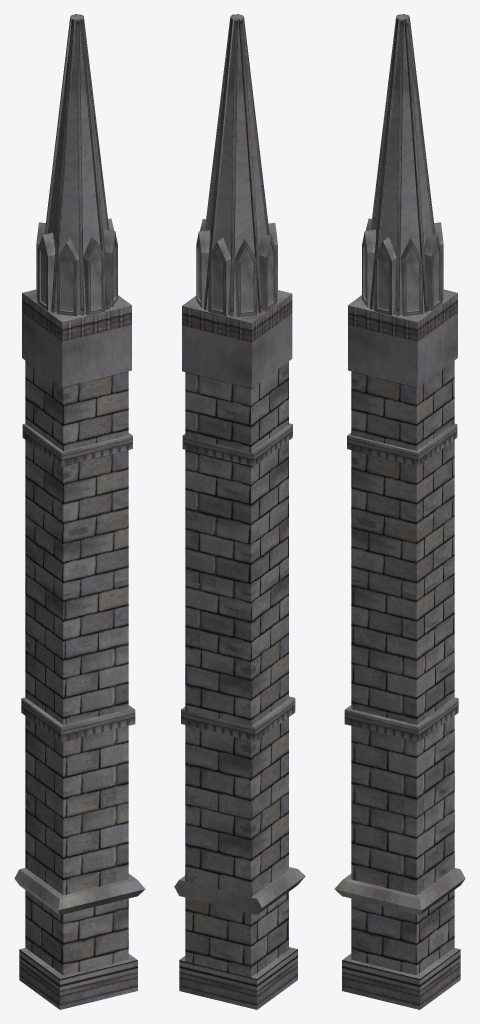
The model's file is tower_small_01.fbx.
3 views of the same model, side by side, from view 1: azimuth 30°, elevation 25°; view 2: azimuth 150°, elevation 25°; view 3: azimuth 330°, elevation 25° (orthographic).
Visible parts, largest first — view 1: tower_small_01; view 2: tower_small_01; view 3: tower_small_01.
Boxes of the visible parts, bbox=[...] form: tower_small_01: bbox=[14, 14, 145, 1009]; tower_small_01: bbox=[174, 14, 305, 1009]; tower_small_01: bbox=[334, 14, 465, 1009].
Bounding box in the file's own units: 535 × 5647 × 474.
